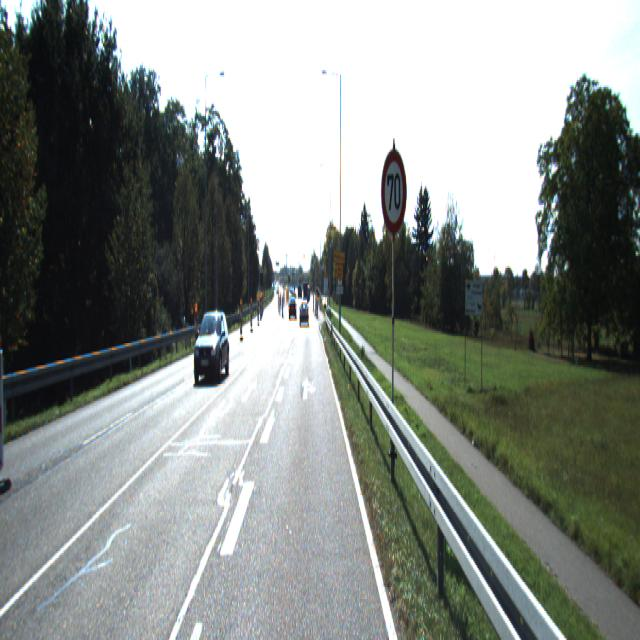Car: (193, 309, 230, 385), (299, 302, 309, 326)
DontCare: (279, 272, 298, 325)
